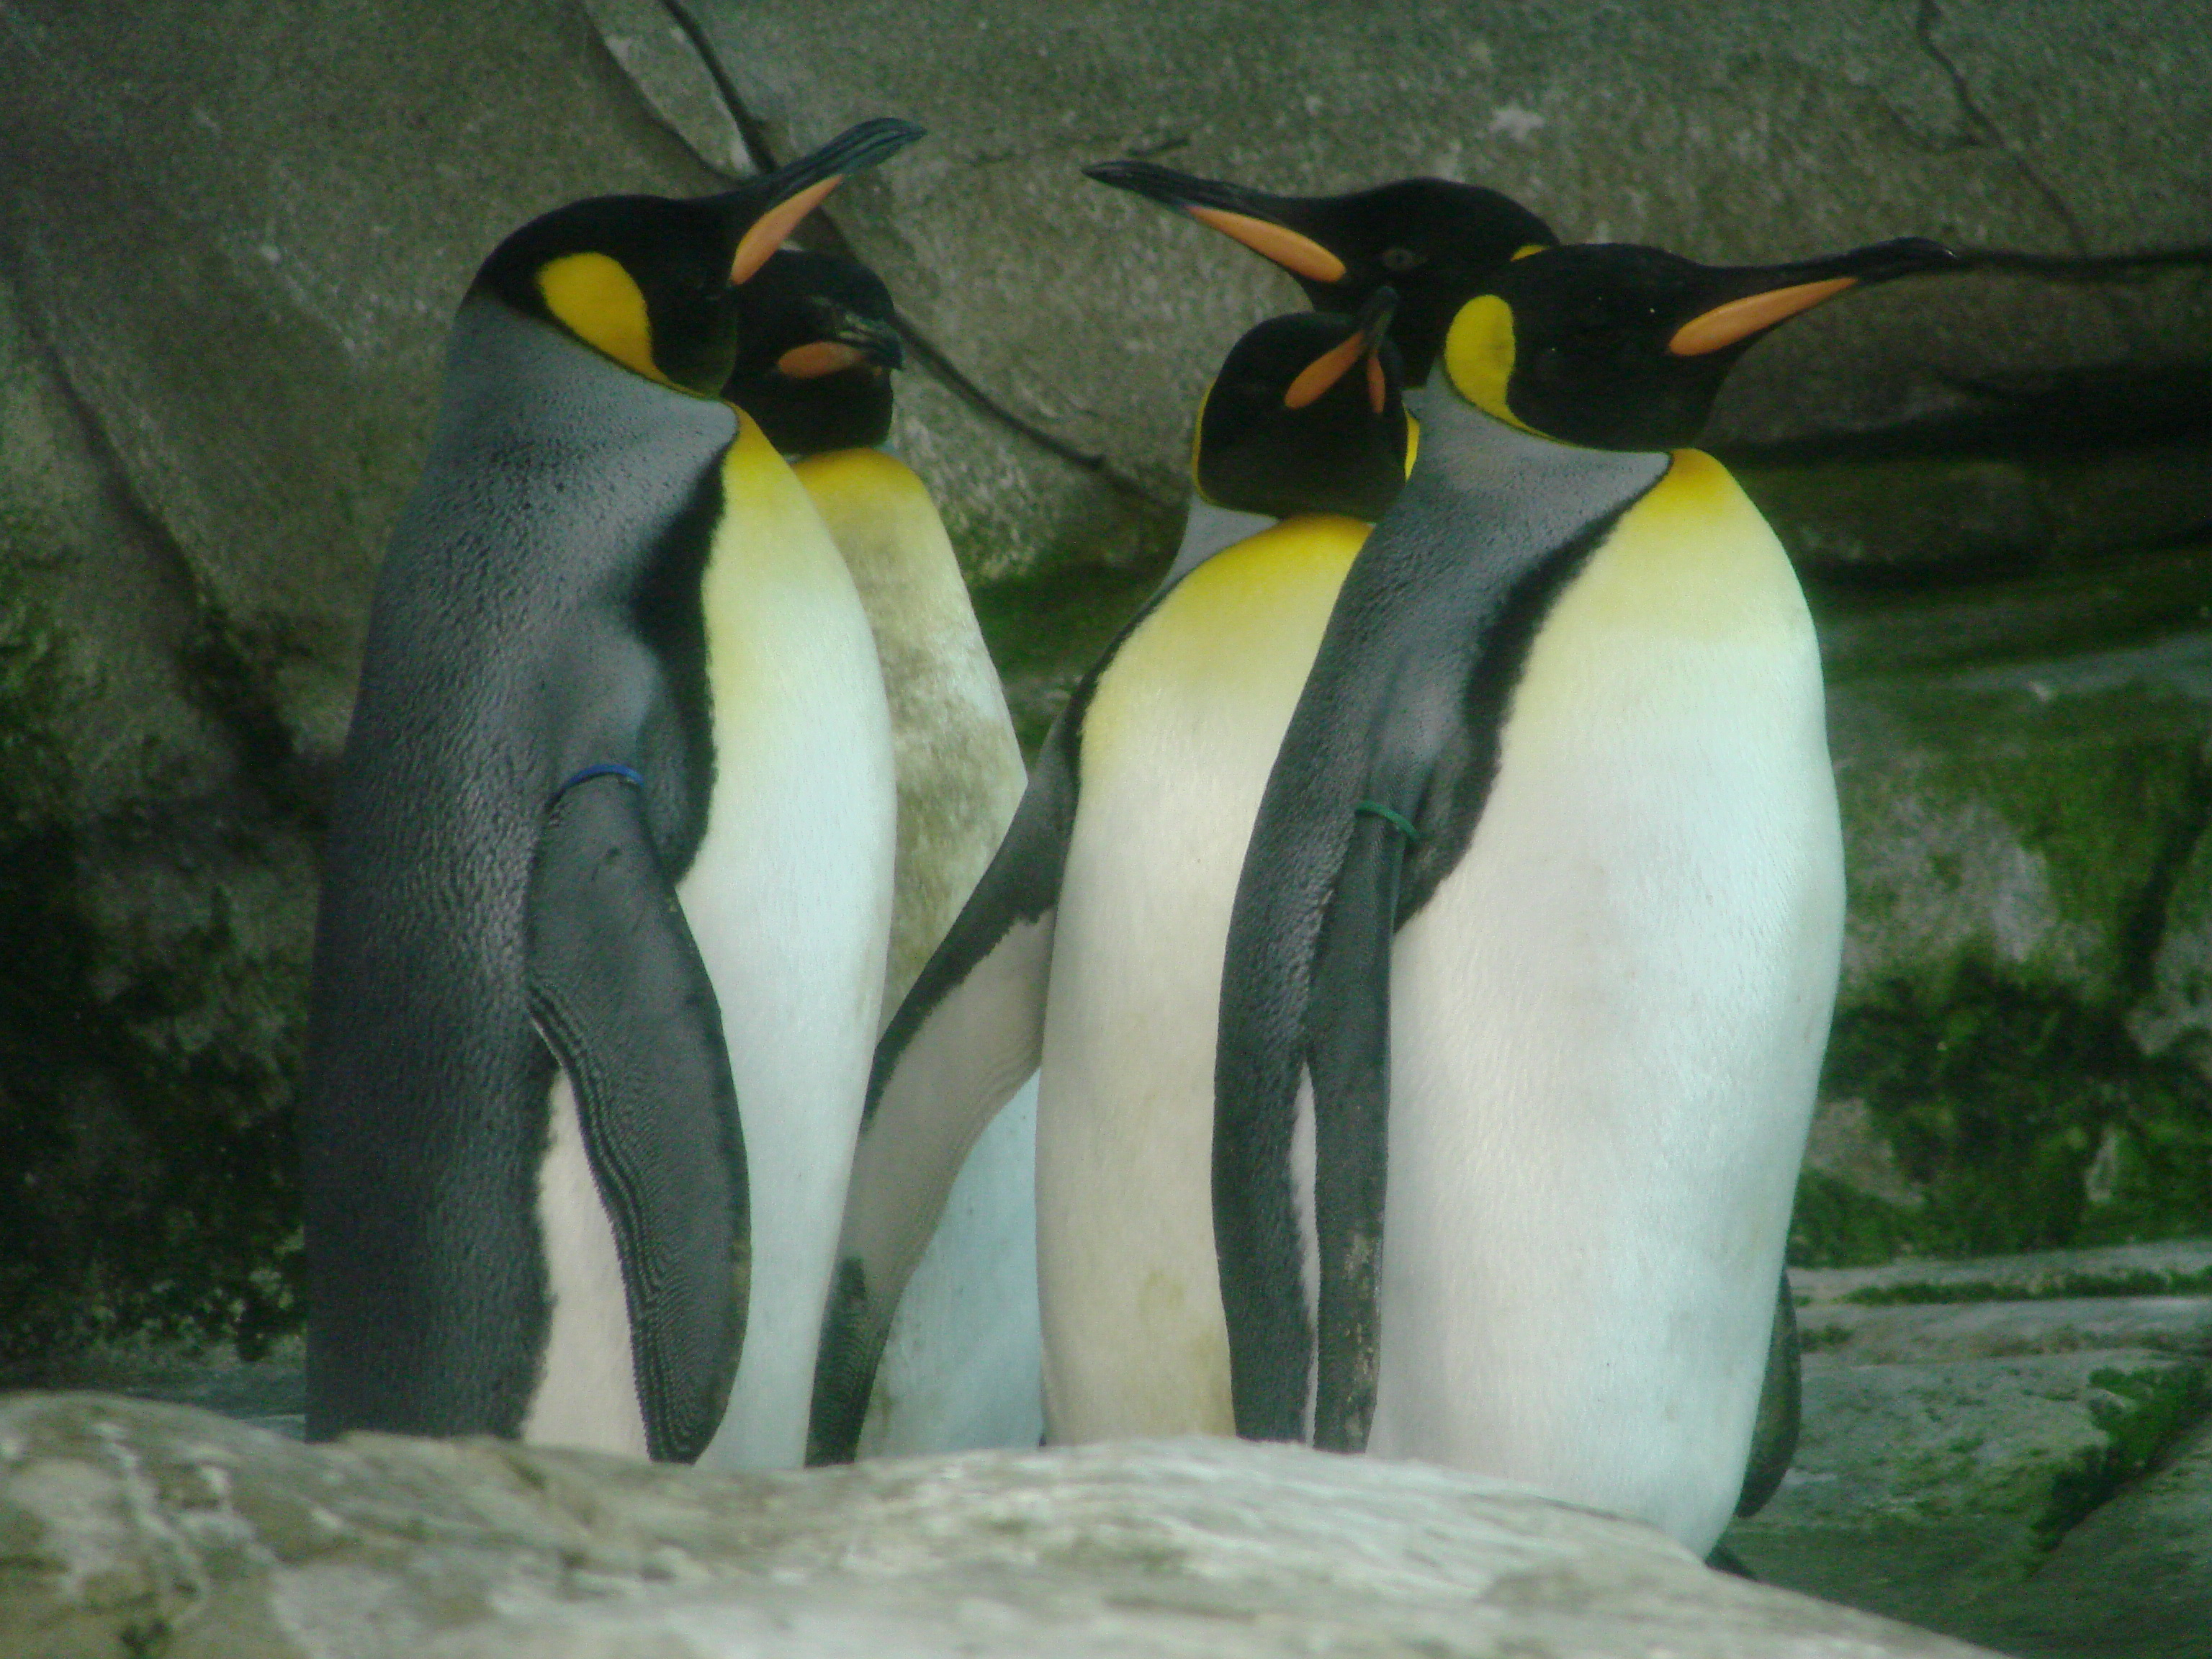penguin: (1212, 242, 1952, 1570), (341, 117, 941, 1521)
